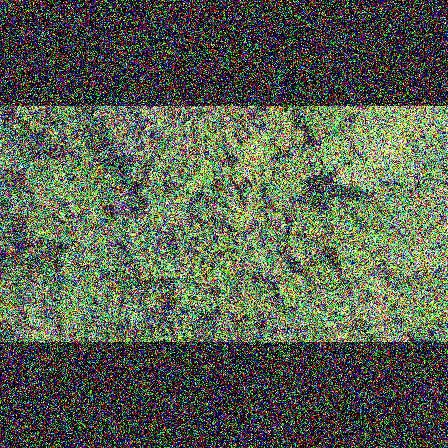Dead: (108, 185, 144, 217)
